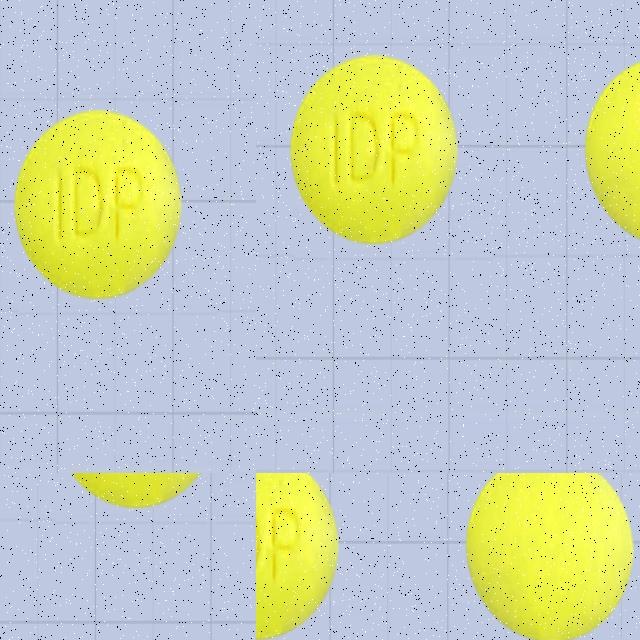Baraclude: (116, 230, 256, 473)
Ciplus: (16, 473, 256, 637)
Ciracle: (465, 473, 640, 640), (256, 473, 343, 640)
Clithocin - 500mg: (256, 93, 548, 370), (528, 0, 640, 167)
